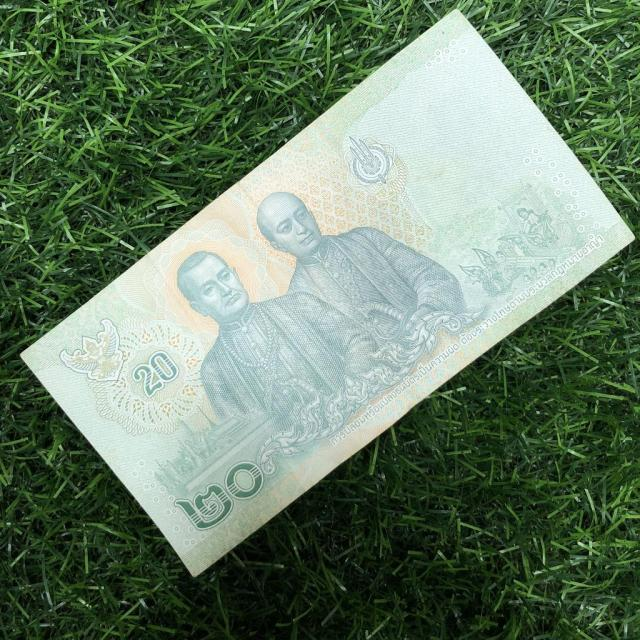THAI20: (23, 11, 632, 574)
